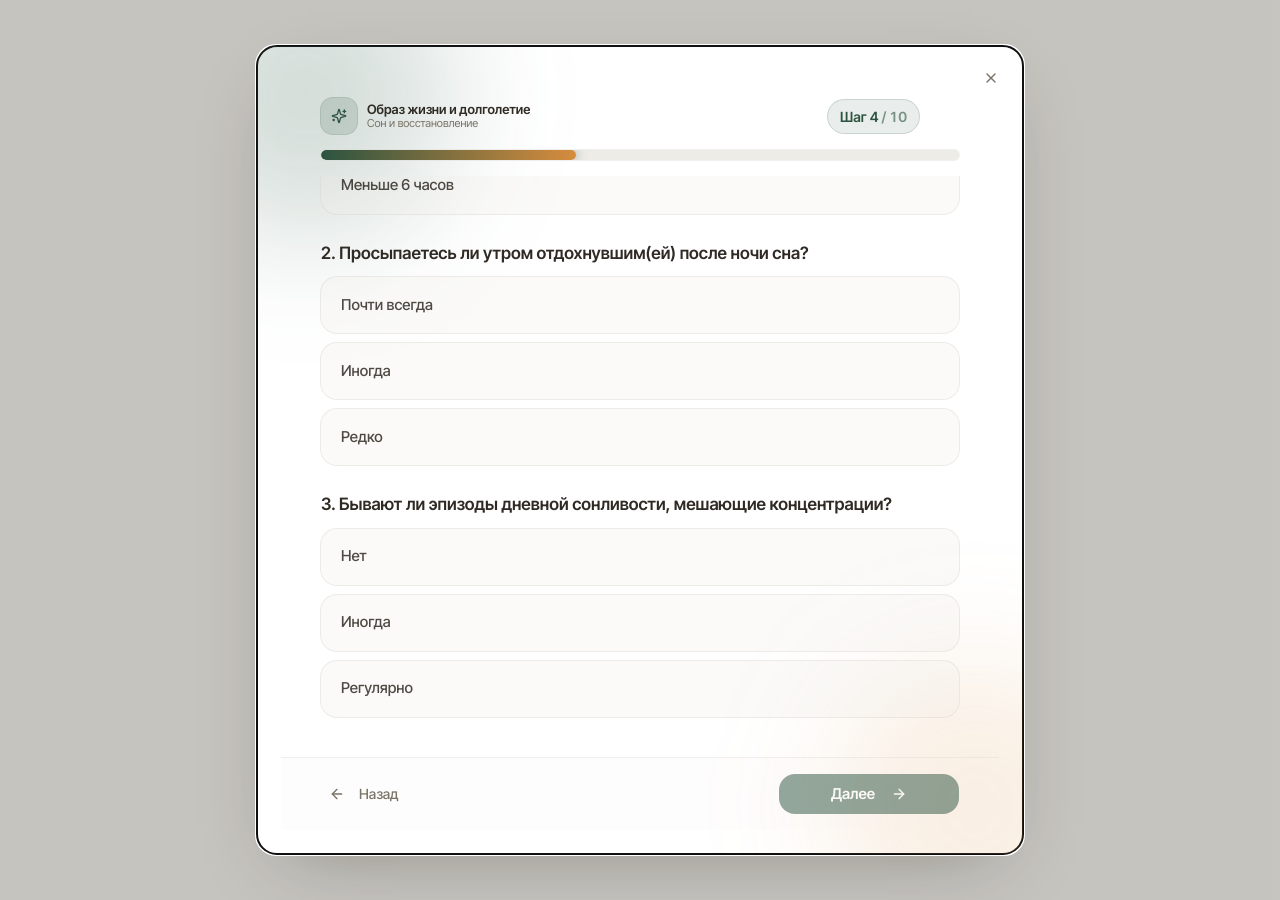
Test: LifestyleQuizModal metrics › fires Yandex goals on first question, contact screen, and successful submit
Earlier steps of the test are not shown.
Later steps or results of the test are not shown.
(page scrolled)
Click the button "Почти всегда". click: {"x": 387, "y": 304}
box: [321, 277, 959, 333]
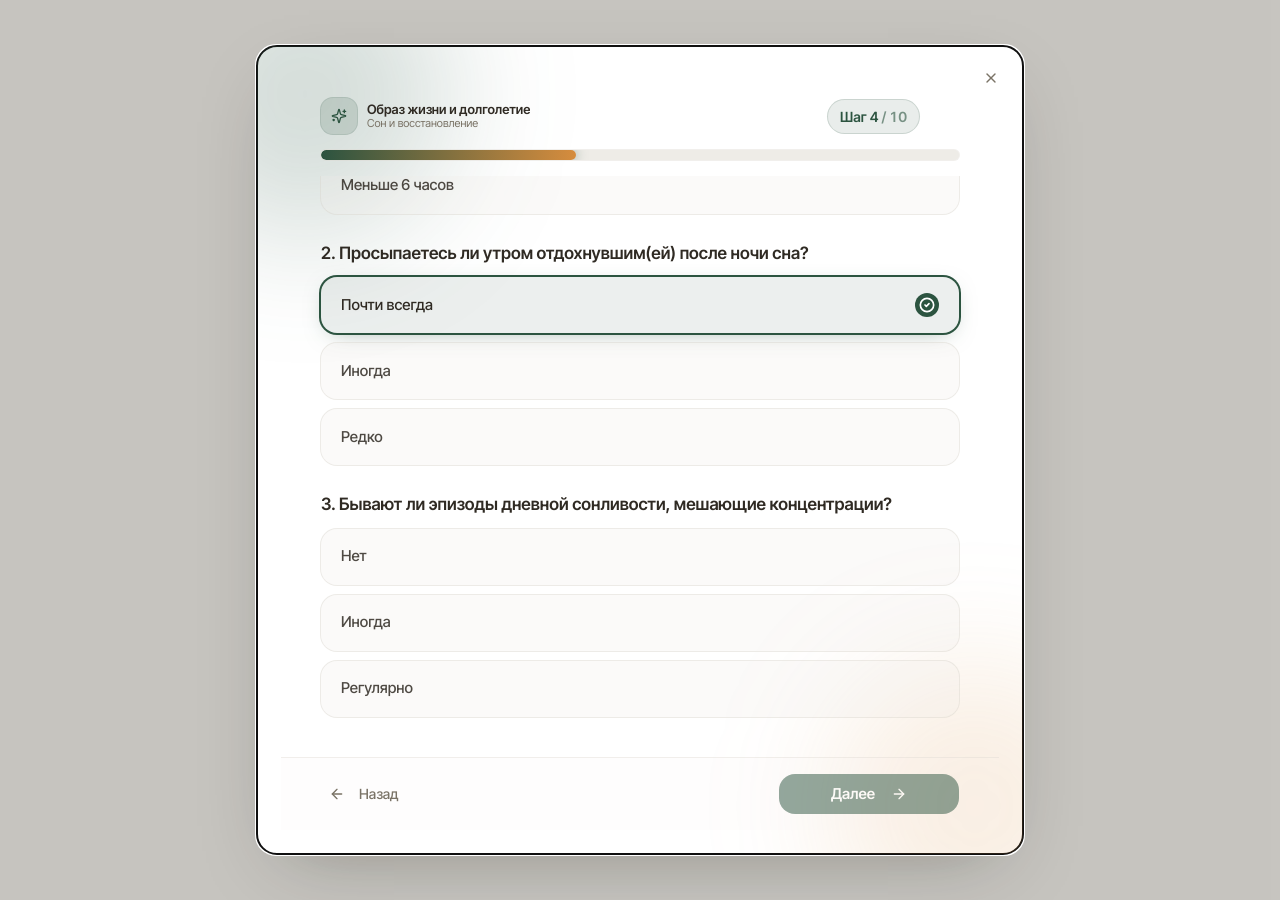
Click the button "Нет". click: {"x": 354, "y": 556}
box: [321, 528, 959, 584]
(page scrolled)
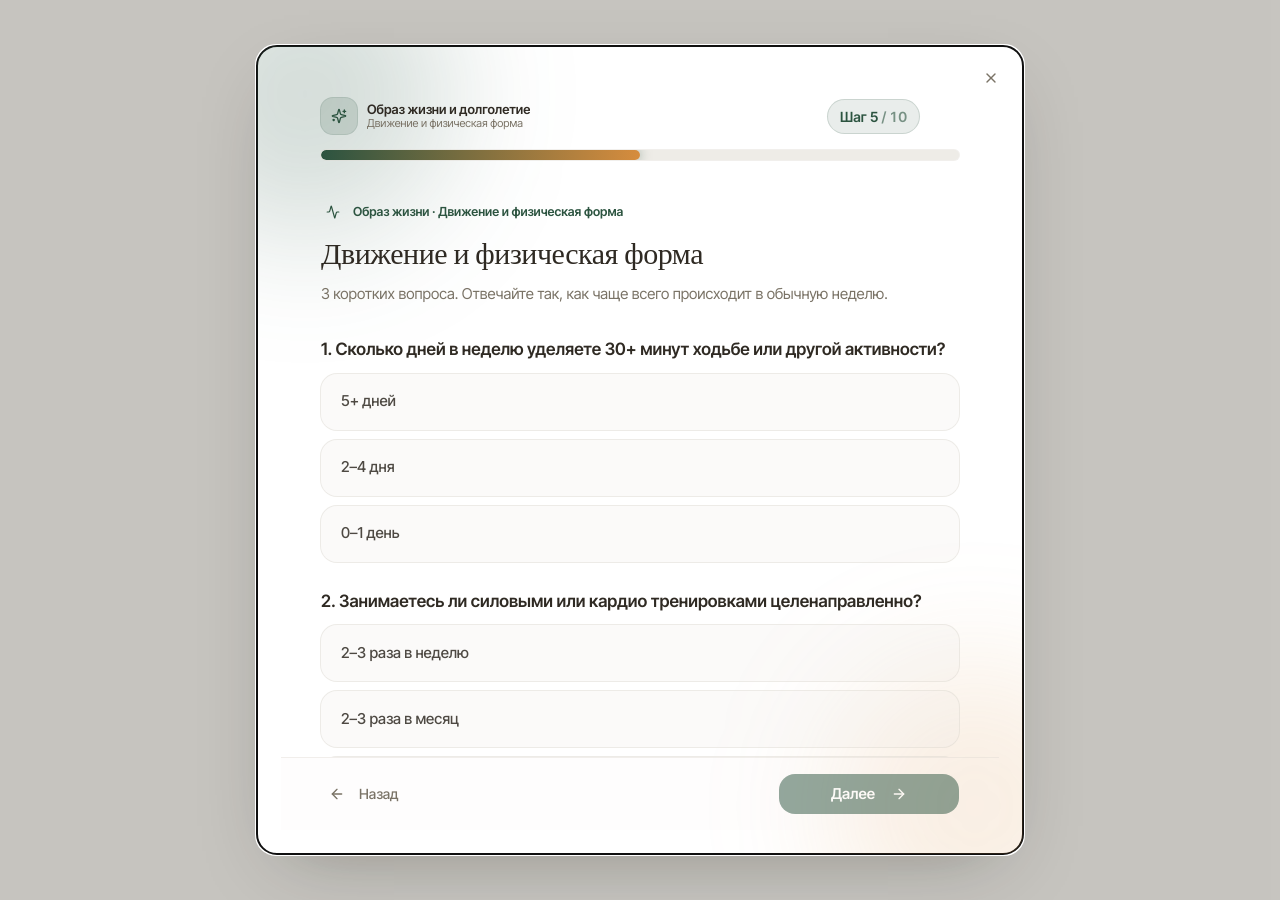
Expected: the text "Сколько дней в неделю уделяете 30+ минут ходьбе или другой активности?" is shown, [321, 339, 945, 359]
